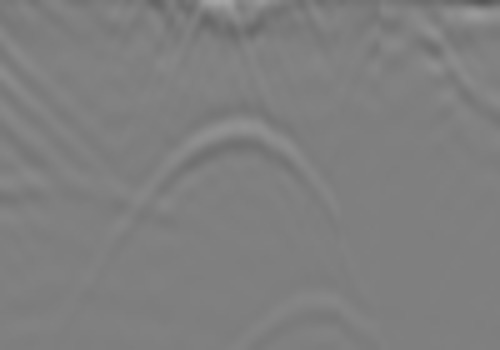hyperbola: (83, 115, 380, 266)
